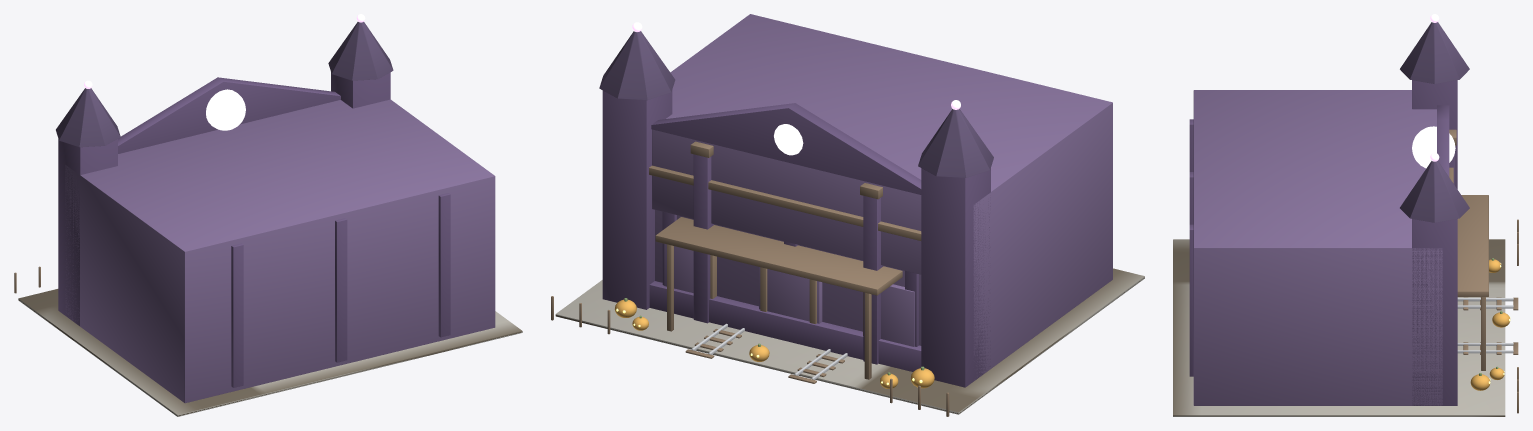
Rendered from th32_geisterbahn.glb.
The picture shows the model from 3 angles, left to right: view 1: azimuth 30°, elevation 25°; view 2: azimuth 150°, elevation 25°; view 3: azimuth 270°, elevation 25°; orthographic projection. The views are drawn at different scales.
Visible parts, largest first — view 1: Cube.001, Cube, Giebel, Cube.018, Cone.001, Cone, Cube.013, Cube.012, Cube.014, Cube.019, Sphere.002; view 2: Cube.001, Cube.020, Cube, Cube.018, Cube.019, Giebel, Cube.024, Cube.010, Cone, Cone.001, Cube.011, Cube.006 (+8 smaller); view 3: Cube.001, Cube, Cube.019, Cube.024, Cone, Cone.001, Cube.018, Sphere.002, Giebel, Cube.014, Cube.026.
Part boxes in pixels (x1,y1,x2,y2): Cube.001: (65, 99, 495, 403); Cube: (18, 289, 522, 416); Giebel: (118, 77, 340, 153); Cube.018: (58, 139, 117, 326); Cone.001: (328, 22, 393, 80); Cone: (56, 88, 120, 147); Cube.013: (335, 218, 347, 362); Cube.012: (231, 243, 243, 387); Cube.014: (438, 193, 450, 337); Cube.019: (331, 72, 390, 108); Sphere.002: (206, 89, 245, 130); Cube.001: (655, 14, 1112, 379); Cube.020: (652, 129, 921, 274); Cube: (555, 268, 1144, 414); Cube.018: (921, 168, 990, 387); Cube.019: (602, 90, 672, 309); Giebel: (651, 103, 921, 194); Cube.024: (655, 217, 902, 295); Cube.010: (649, 281, 921, 371); Cone: (918, 109, 993, 177); Cone.001: (599, 31, 675, 100); Cube.011: (649, 165, 921, 240); Cube.006: (693, 154, 714, 323); Cube.001: (1193, 90, 1442, 405); Cube: (1173, 239, 1505, 416); Cube.019: (1412, 219, 1457, 405); Cube.024: (1457, 195, 1488, 296); Cone: (1400, 22, 1469, 83); Cone.001: (1400, 161, 1469, 222); Cube.018: (1412, 80, 1457, 189); Sphere.002: (1412, 126, 1455, 168); Giebel: (1437, 105, 1449, 176); Cube.014: (1189, 224, 1193, 376); Cube.026: (1481, 297, 1485, 370).
Bounding box in the file's own units: 20 × 13.04 × 16.65.
Materials: 13 (1 with a texture image).
